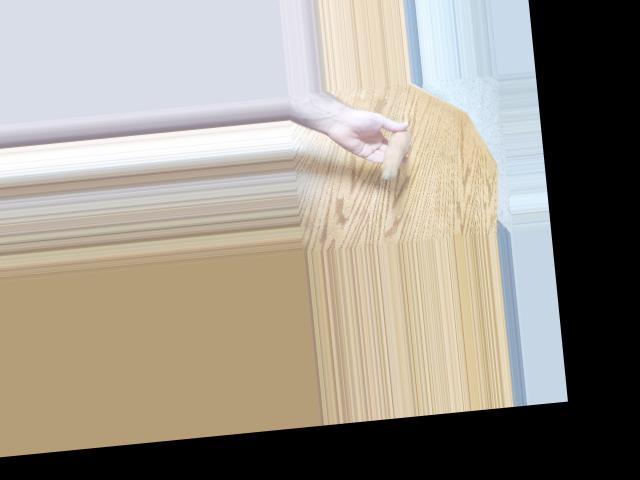sweet_potato: (374, 126, 414, 180)
